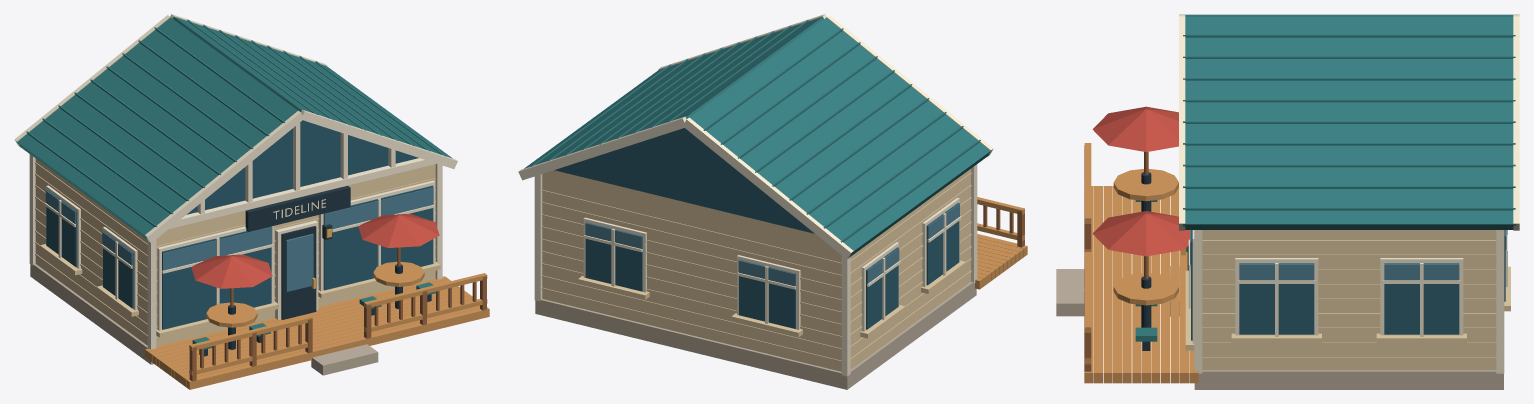
Rendered from tideline_cafe.glb.
3 views of the same model, side by side, from view 1: azimuth 30°, elevation 25°; view 2: azimuth 150°, elevation 25°; view 3: azimuth 270°, elevation 25° (orthographic). The views are drawn at different scales.
Parts seen in each view (by area): view 1: tideline_cafe; view 2: tideline_cafe; view 3: tideline_cafe.
Part boxes in pixels (left/top/right/bottom): tideline_cafe: left=14, top=14, right=489, bottom=389; tideline_cafe: left=518, top=14, right=1027, bottom=389; tideline_cafe: left=1056, top=14, right=1519, bottom=389.
Bounding box in the file's own units: 9.11 × 6.22 × 9.2.
